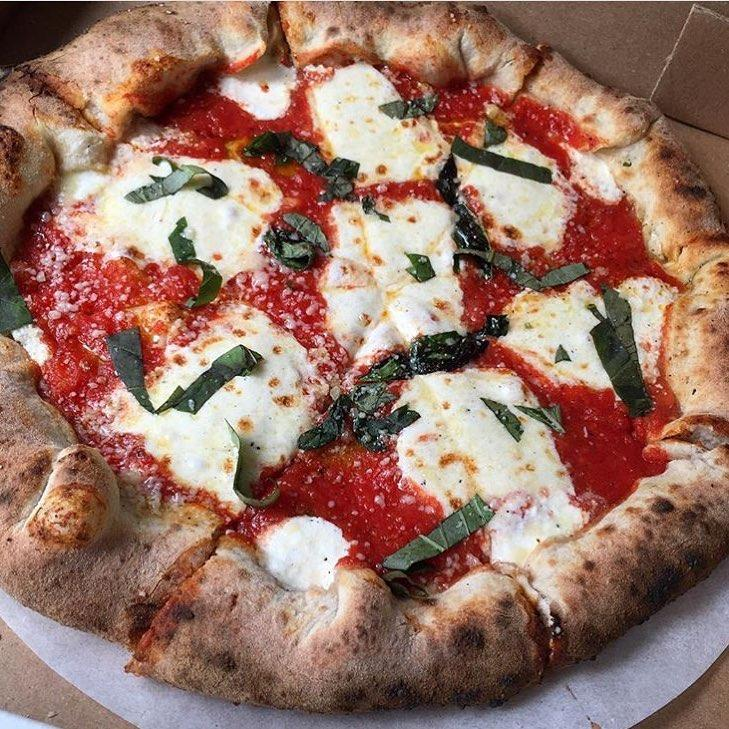Basil: (311, 326, 475, 452), (111, 321, 252, 414), (446, 226, 577, 292), (591, 288, 654, 415), (381, 506, 475, 584), (246, 131, 357, 189), (448, 133, 557, 189), (258, 203, 332, 272), (221, 428, 287, 502), (141, 166, 224, 200)
Cheese: (401, 376, 587, 554), (121, 306, 294, 489), (318, 206, 467, 360), (88, 163, 262, 267), (308, 66, 452, 190), (501, 281, 674, 384), (466, 141, 570, 249), (266, 513, 345, 580)
Pizza: (0, 6, 729, 717)
